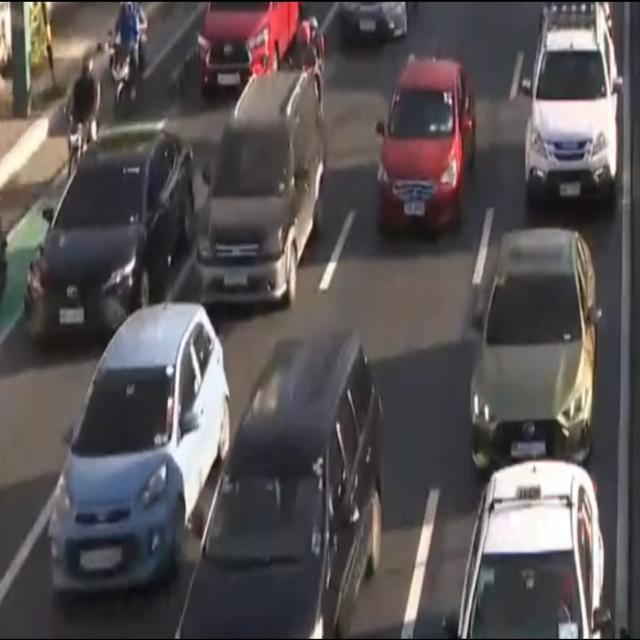Motorcycle: (58, 51, 106, 180), (103, 4, 149, 116), (280, 9, 327, 71)
SUV: (170, 326, 388, 640), (191, 69, 326, 314), (518, 0, 625, 209)
Sedan: (42, 300, 232, 600), (27, 126, 195, 346), (457, 219, 603, 466), (442, 458, 612, 640), (369, 55, 475, 243), (192, 0, 299, 103)
